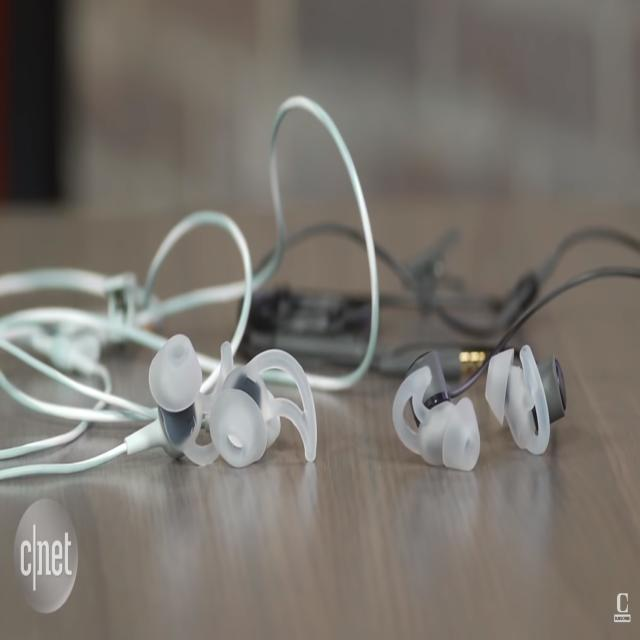Earphone: (2, 97, 640, 480)
